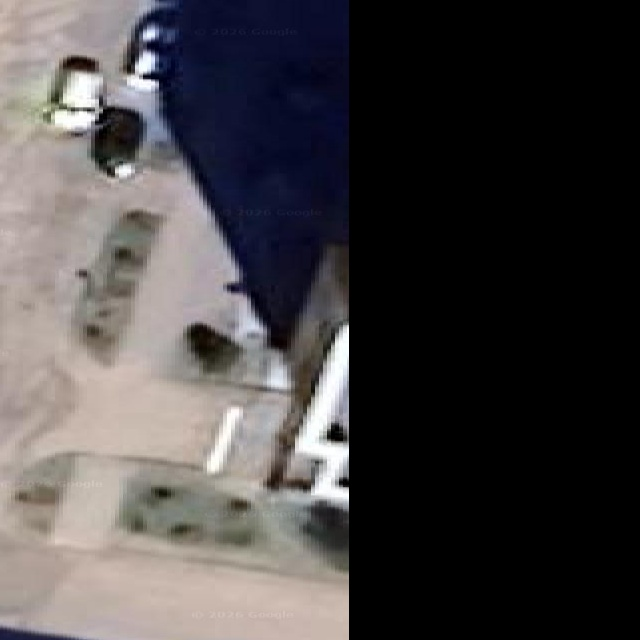car: (44, 56, 104, 133), (91, 106, 144, 178)
